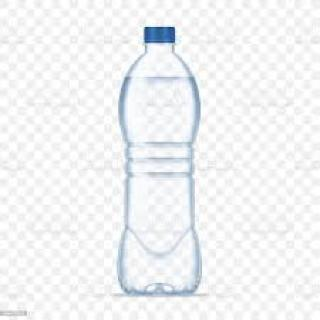Anorganik: (115, 19, 208, 300)
